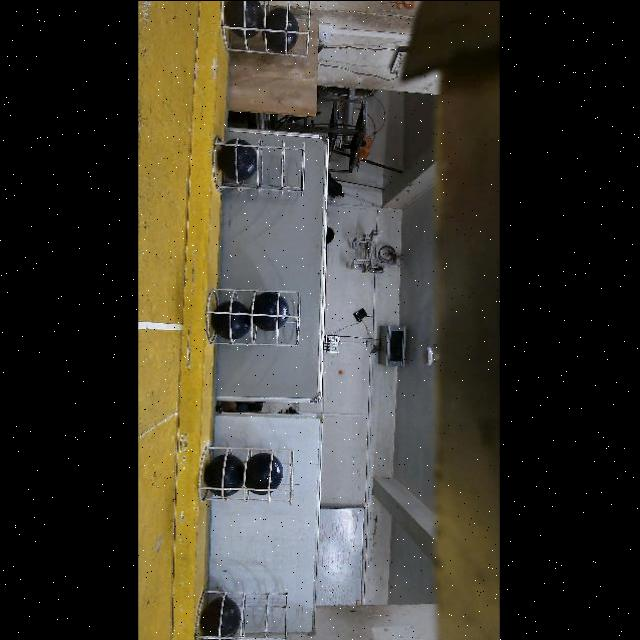P: (204, 456, 244, 496), (243, 452, 282, 493), (218, 139, 255, 182), (259, 8, 297, 49), (201, 595, 239, 634), (213, 300, 250, 339), (250, 291, 287, 330), (226, 0, 261, 39)
S: (197, 286, 305, 346), (203, 132, 307, 190), (215, 1, 317, 54), (205, 446, 291, 506), (200, 590, 286, 640)
